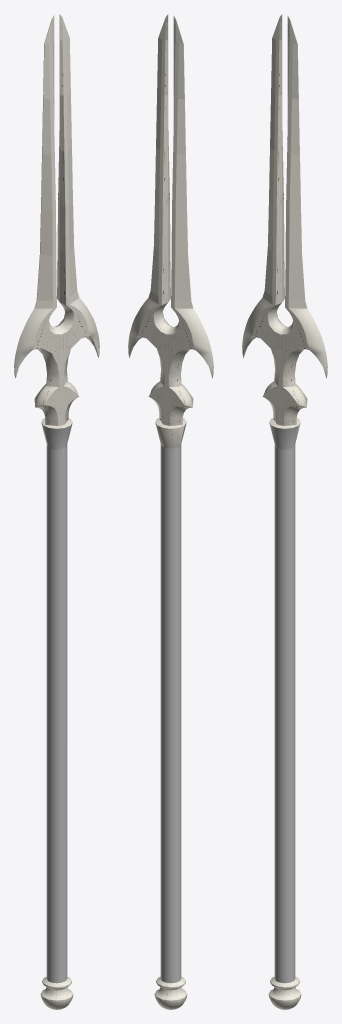
File: mızrak_1.fbx
The picture shows the model from 3 angles, left to right: view 1: azimuth 30°, elevation 25°; view 2: azimuth 150°, elevation 25°; view 3: azimuth 330°, elevation 25°; orthographic projection.
Parts seen in each view (by area): view 1: spear5.001, spear5; view 2: spear5.001, spear5; view 3: spear5.001, spear5.
Part boxes in pixels (box(x1,y1,x2,y2)): spear5.001: box(14, 14, 99, 1009); spear5: box(43, 423, 72, 983); spear5.001: box(128, 14, 213, 1009); spear5: box(160, 423, 186, 983); spear5.001: box(242, 14, 327, 1009); spear5: box(269, 423, 298, 983).
Size of the model in its own units: 17.61 by 195 by 5.84.
